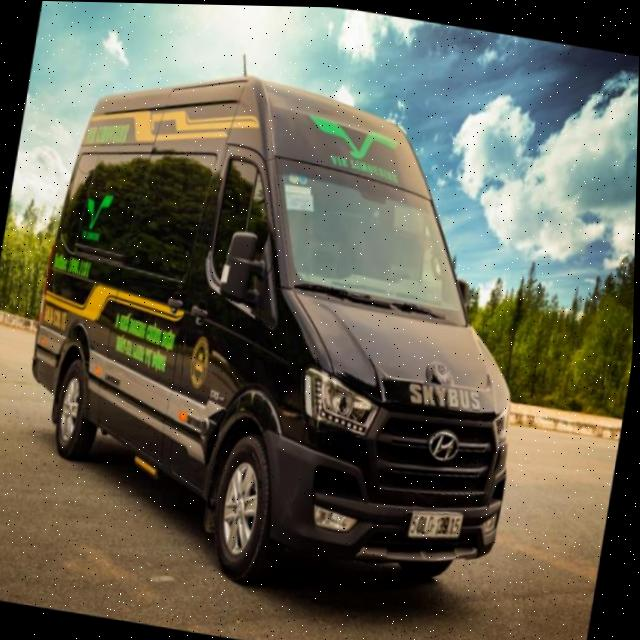car: (6, 55, 559, 618)
plate: (400, 502, 468, 548)
